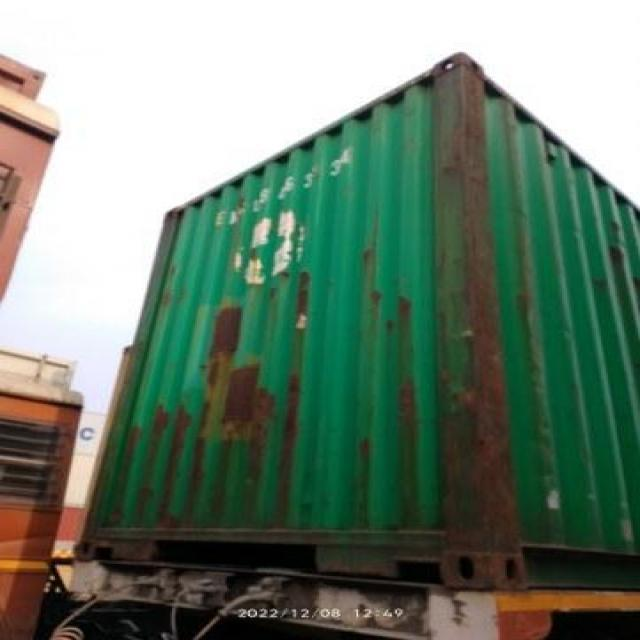rust: (454, 406, 500, 534), (439, 70, 480, 149), (469, 249, 489, 376), (220, 374, 254, 427), (211, 319, 248, 351), (299, 286, 321, 321)
